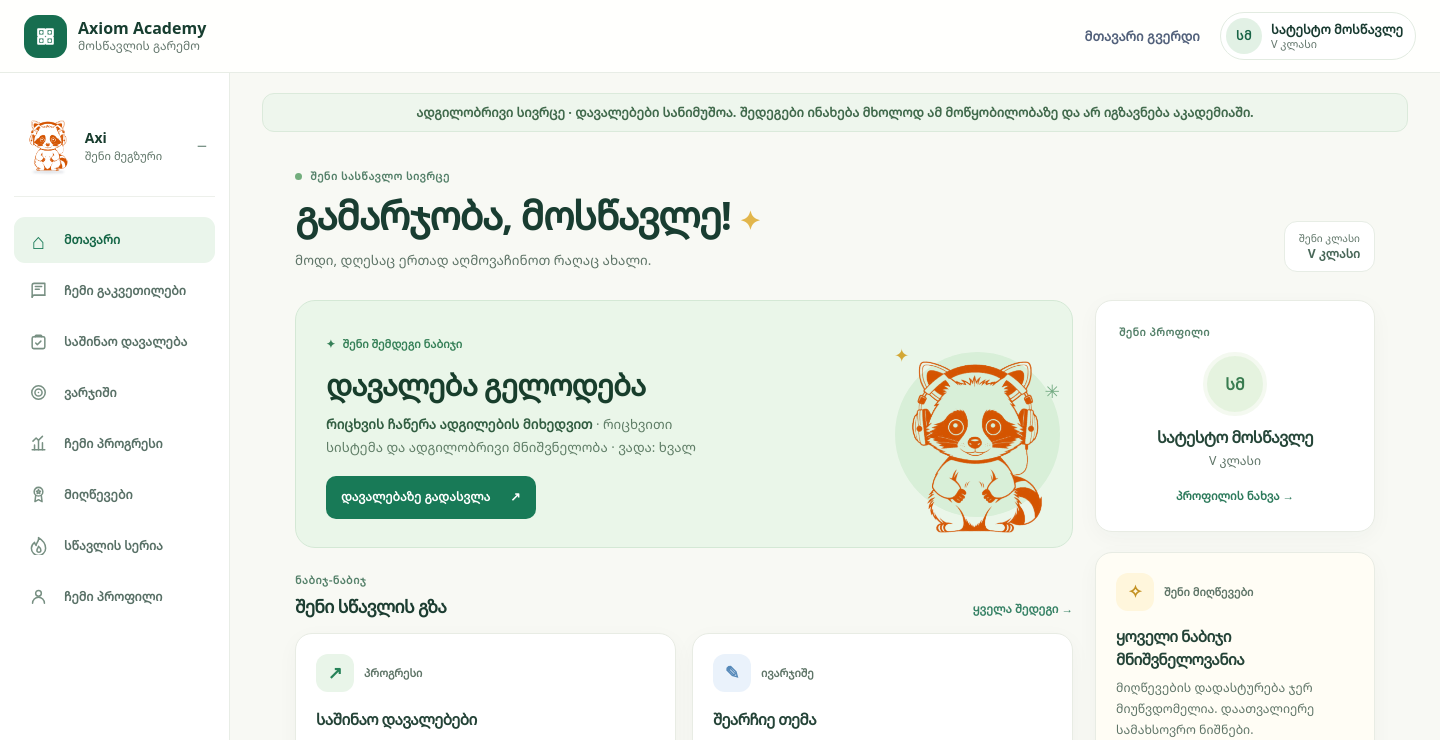
Test: links to the page through Axi, keeps achievements, and provides a dashboard entry
The image size is (1440, 740).
Click the link "სწავლის სერია" at (96, 546), box top-left (28, 536), bottom-right (163, 555)
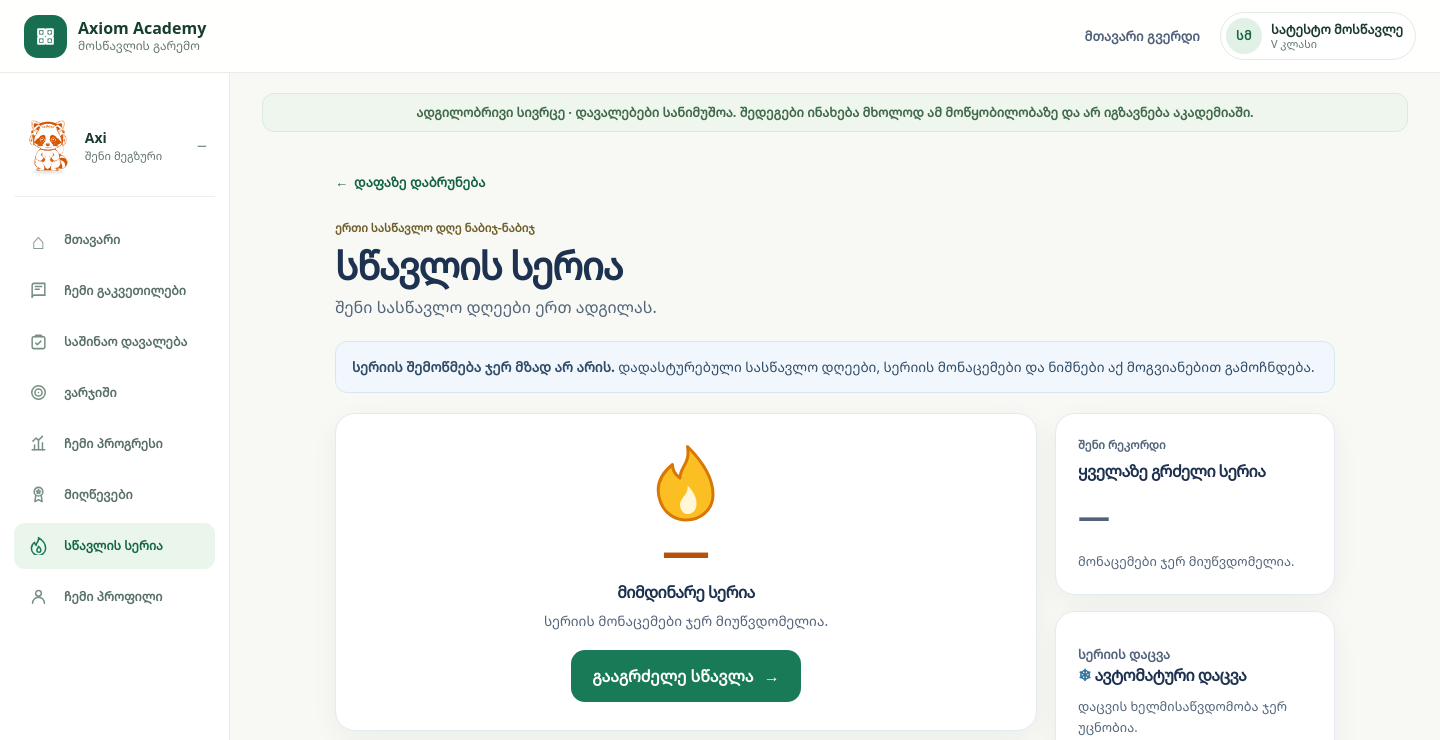
expect the heading "სწავლის სერია" is shown: met, box top-left (335, 239), bottom-right (622, 291)
